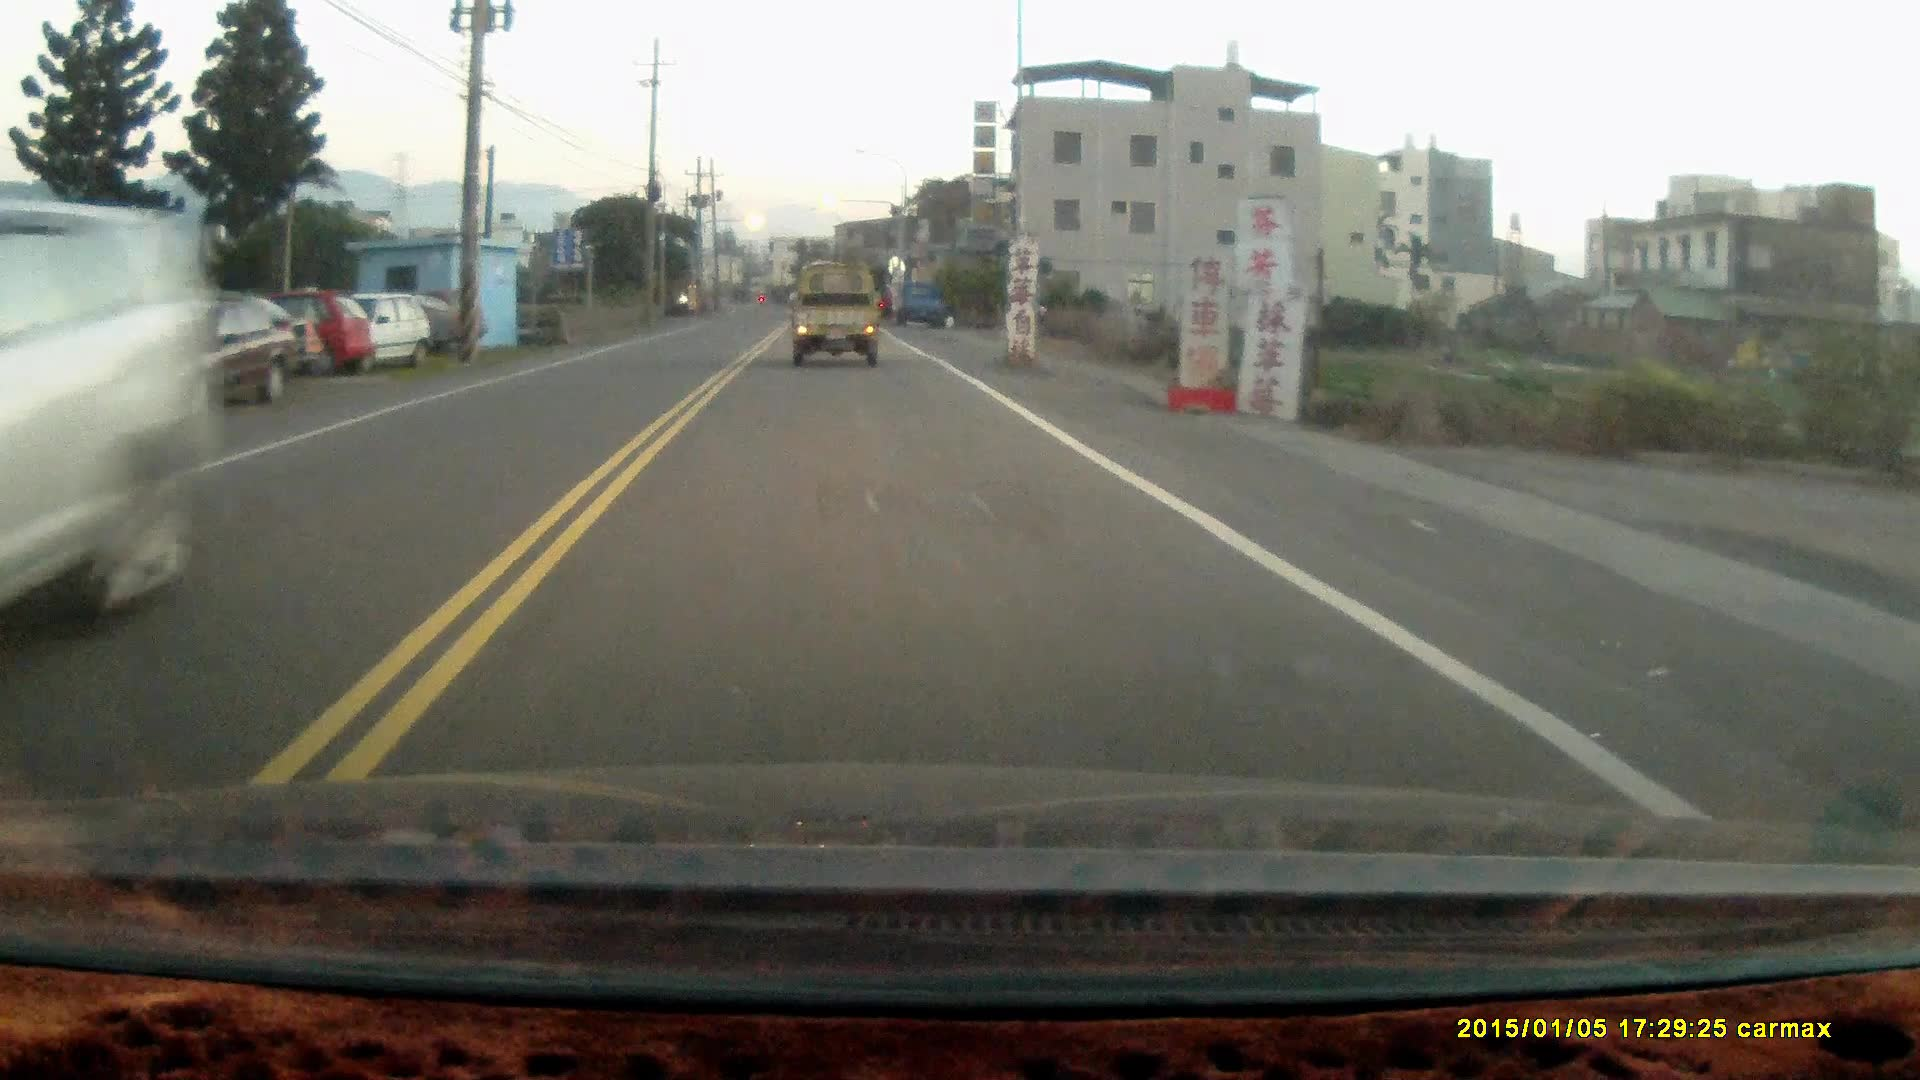vehicle: (1, 203, 195, 658), (791, 270, 884, 373), (335, 295, 433, 373), (899, 282, 953, 334)
